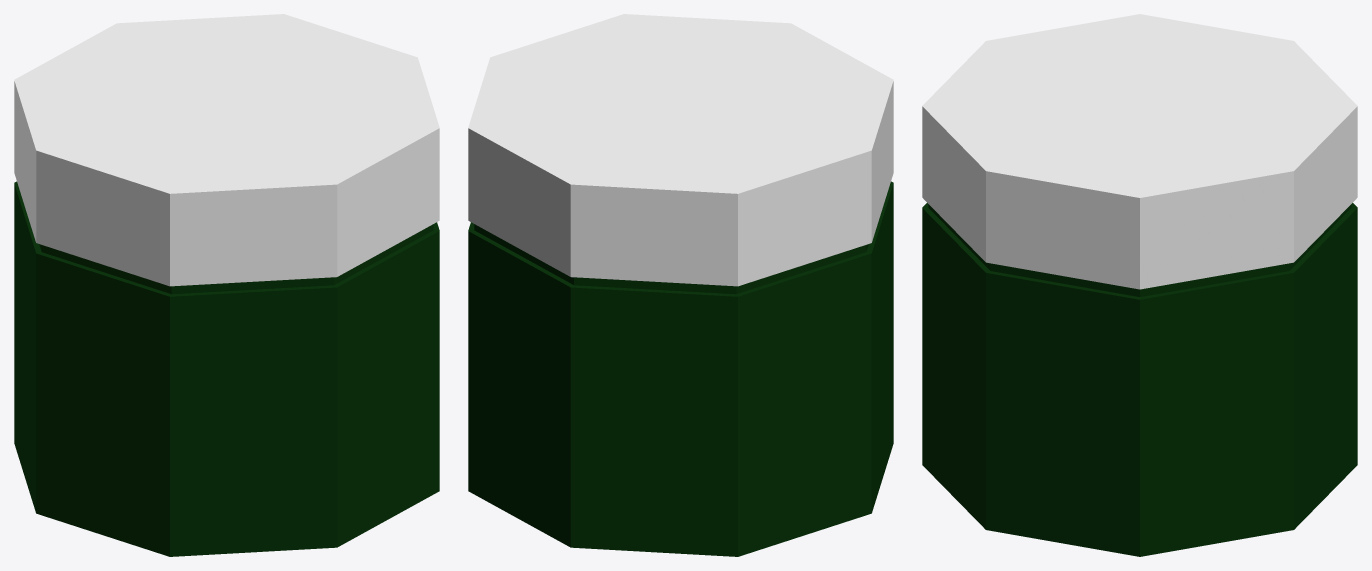
The model's file is jar.fbx.
The picture shows the model from 3 angles, left to right: view 1: azimuth 30°, elevation 25°; view 2: azimuth 150°, elevation 25°; view 3: azimuth 270°, elevation 25°; orthographic projection.
Visible parts, largest first — view 1: Cylinder; view 2: Cylinder; view 3: Cylinder.
Boxes of the visible parts, x1,y1,x2,y2 form: Cylinder: [14, 14, 439, 556]; Cylinder: [468, 14, 893, 556]; Cylinder: [922, 14, 1357, 556].
Size of the model in its own units: 100 by 90.91 by 100.
